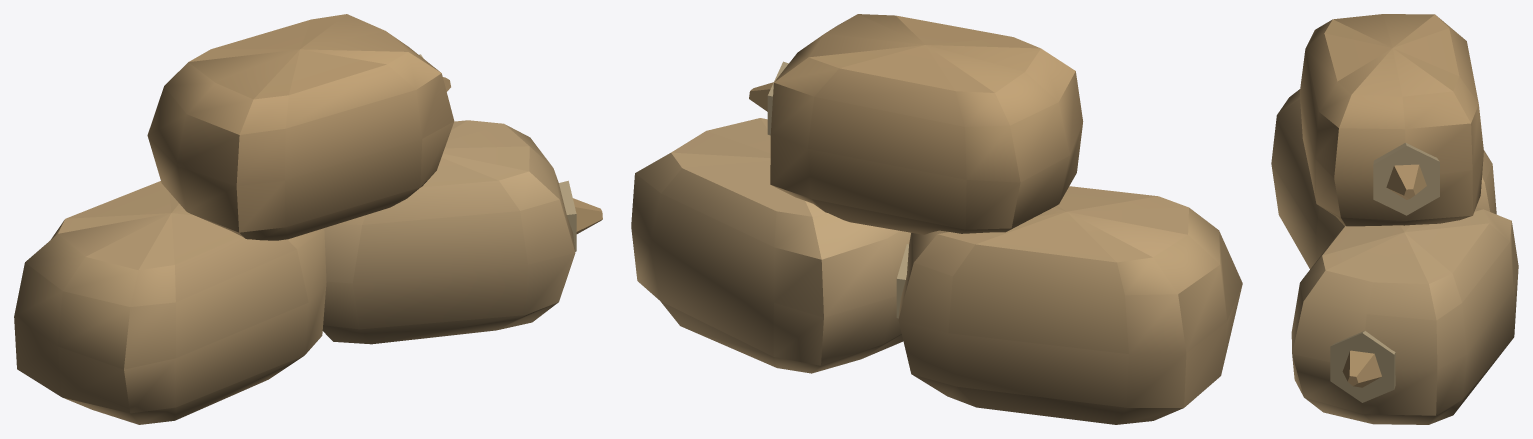
The model's file is muster_sacks.glb.
The picture shows the model from 3 angles, left to right: view 1: azimuth 30°, elevation 25°; view 2: azimuth 150°, elevation 25°; view 3: azimuth 270°, elevation 25°; orthographic projection. The views are drawn at different scales.
Visible parts, largest first — view 1: MusterSacksBody; view 2: MusterSacksBody; view 3: MusterSacksBody.
Part boxes in pixels (x1,y1,x2,y2): MusterSacksBody: [14, 14, 602, 424]; MusterSacksBody: [631, 14, 1242, 424]; MusterSacksBody: [1271, 14, 1518, 424].
Size of the model in its own units: 2 by 1.05 by 0.8327.
